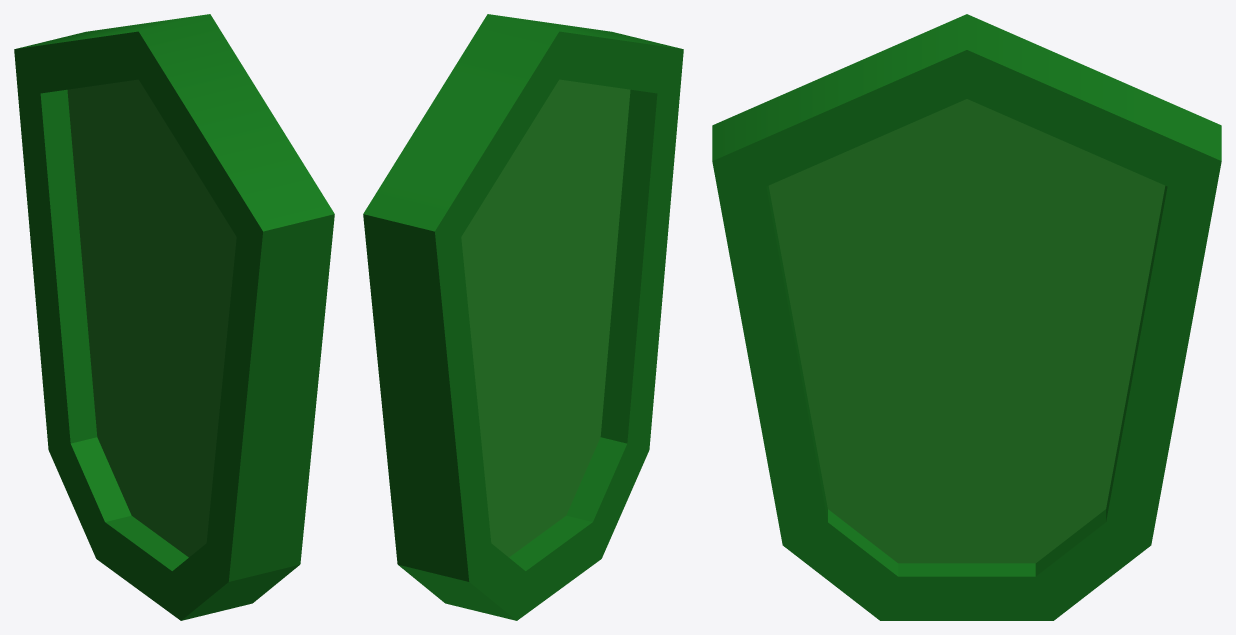
The model's file is Power_Shield.FBX.
3 renders of one model, left to right at view 1: azimuth 30°, elevation 25°; view 2: azimuth 150°, elevation 25°; view 3: azimuth 270°, elevation 25°, orthographic. The views are drawn at different scales.
Parts seen in each view (by area): view 1: Power_Shield; view 2: Power_Shield; view 3: Power_Shield.
Part boxes in pixels (x1,y1,x2,y2): Power_Shield: (14,14,334,620); Power_Shield: (363,14,683,620); Power_Shield: (712,14,1221,620).
Size of the model in its own units: 2.95 by 21.95 by 17.74.
